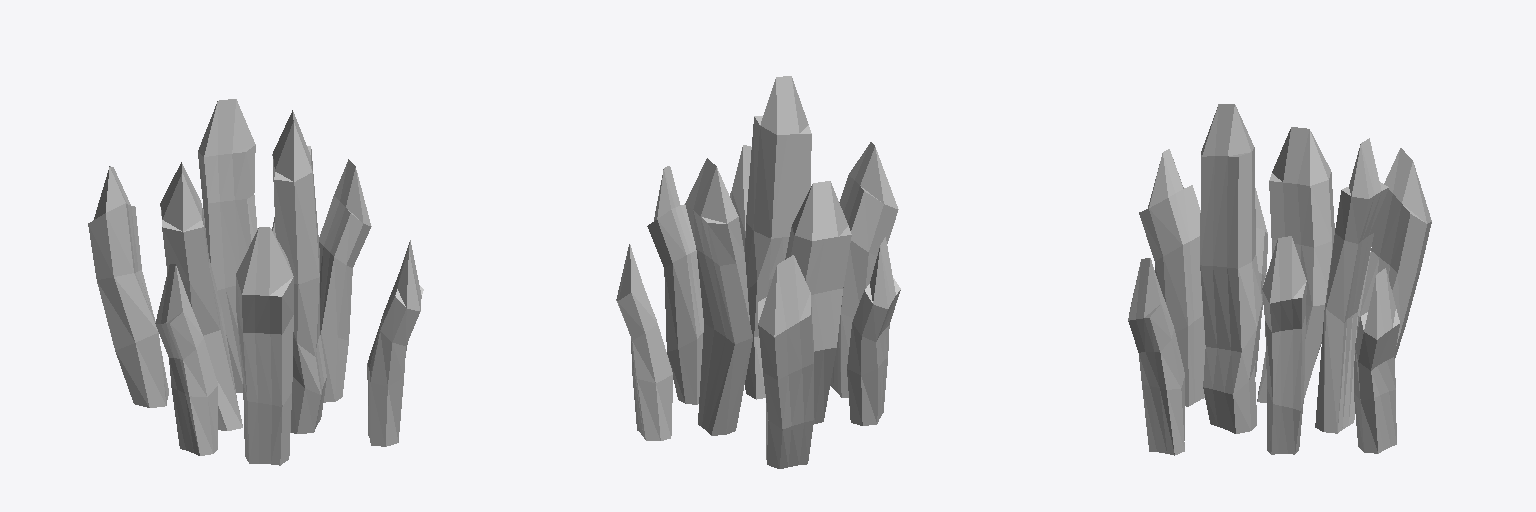
Rendered from Seaweed_A_01_LOD2.obj.
The picture shows the model from 3 angles: view 1: azimuth 30°, elevation 25°; view 2: azimuth 150°, elevation 25°; view 3: azimuth 270°, elevation 25°; orthographic projection.
Visible parts, largest first — view 1: Seaweed_A_01_LOD2_Cylinder.414; view 2: Seaweed_A_01_LOD2_Cylinder.414; view 3: Seaweed_A_01_LOD2_Cylinder.414.
Boxes of the visible parts, x1=… form: Seaweed_A_01_LOD2_Cylinder.414: x1=88, y1=99, x2=423, y2=465; Seaweed_A_01_LOD2_Cylinder.414: x1=616, y1=76, x2=900, y2=468; Seaweed_A_01_LOD2_Cylinder.414: x1=1128, y1=104, x2=1431, y2=455.
Bounding box in the file's own units: 3.42 × 4.72 × 4.08.